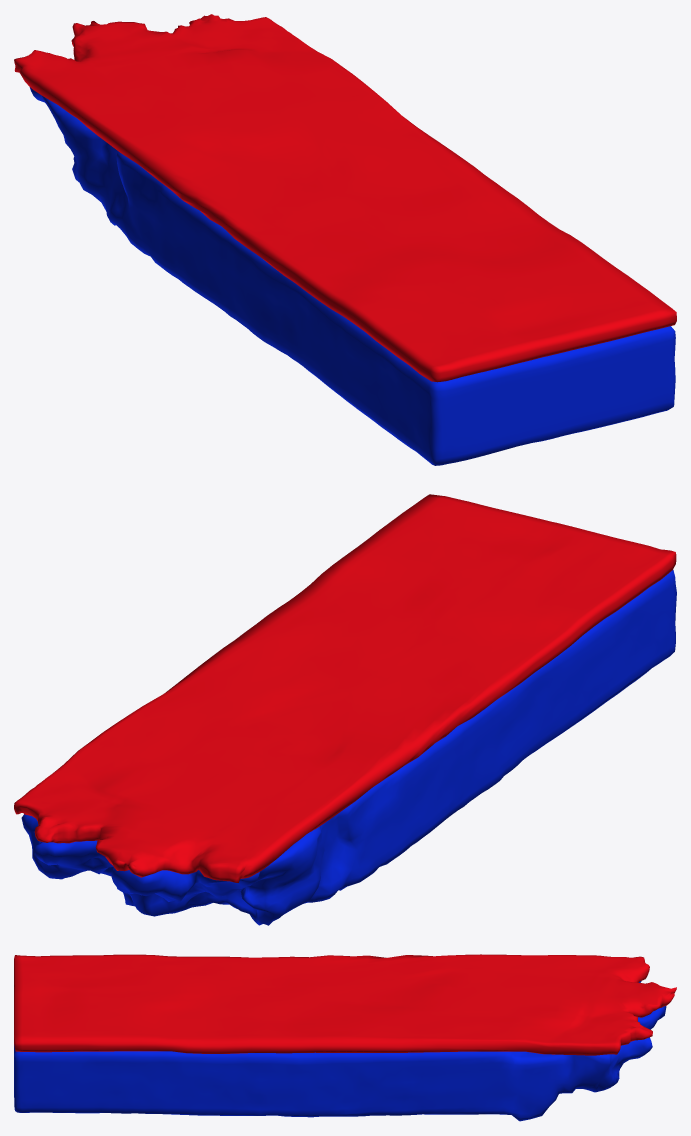
The model's file is BP_ConcreteFloor_4.fbx.
3 renders of one model, top to bottom at view 1: azimuth 30°, elevation 25°; view 2: azimuth 150°, elevation 25°; view 3: azimuth 270°, elevation 25°, orthographic. The views are drawn at different scales.
Visible parts, largest first — view 1: BP_ConcreteFloor_4; view 2: BP_ConcreteFloor_4; view 3: BP_ConcreteFloor_4.
Boxes of the visible parts, <box> form: BP_ConcreteFloor_4: <box>14,14,676,465</box>; BP_ConcreteFloor_4: <box>14,494,676,925</box>; BP_ConcreteFloor_4: <box>14,954,676,1121</box>.
Bounding box in the file's own units: 515 × 218 × 1601.
